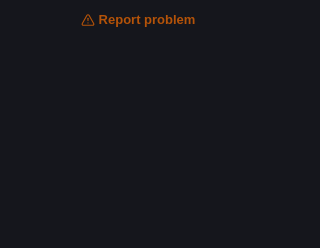
Test case: DishProblemButton › shows why reporting failed and can be closed
The image size is (320, 248).
Click the button "Report problem": (138, 20) [81,12,195,27]
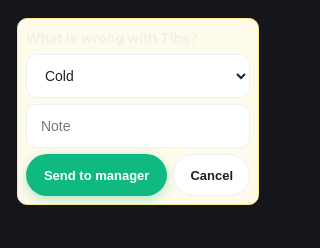
Submit the form, box [17,18,259,205]
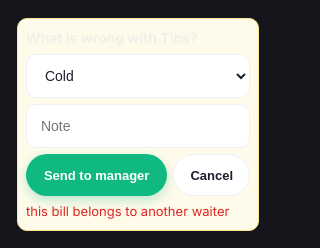
Check: the message reads "this bill belongs to another waiter", box [26,203,229,219]
Click the button "Cancel": (212, 175) [173,154,250,196]
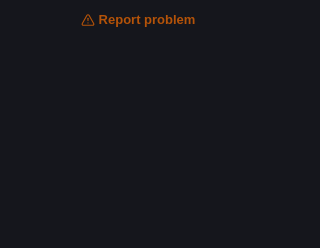
Check: the button "Report problem" is shown, box [81,12,195,27]
